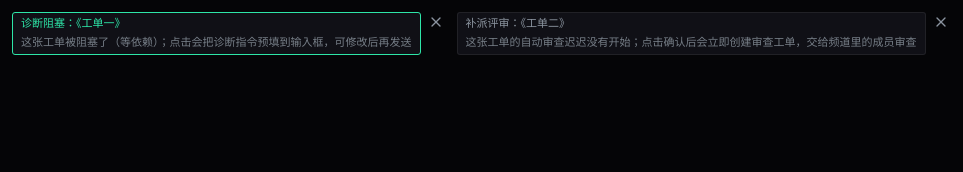
Test: ChannelGuidance — P3-b 引导片区 › #484：片粒度 dismiss——✕ 只移除被点片，其余片保留
Step 1. Click the button named "关闭建议：诊断阻塞：《工单一》" → coordinates (436, 22), box x1=422 y1=12 x2=448 y2=32
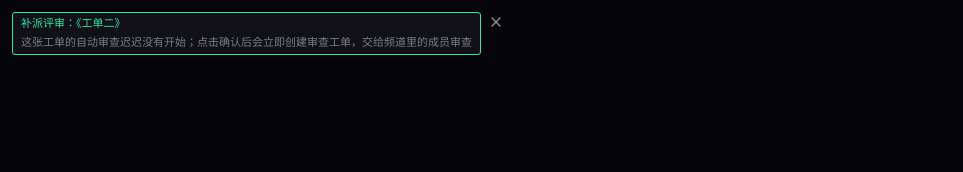
Expected: the button "补派评审：《工单二》" is shown, x1=12 y1=12 x2=481 y2=55
Expected: the button "诊断阻塞：《工单一》" is gone
